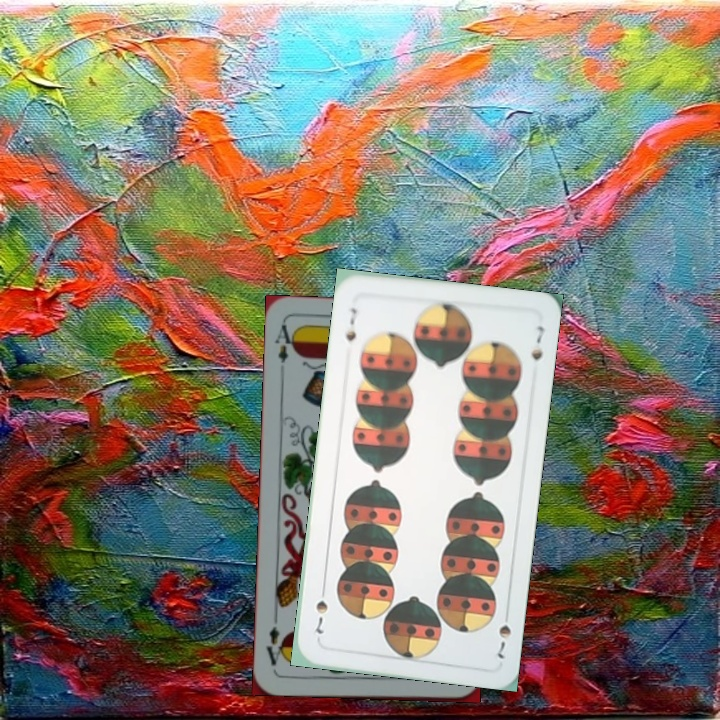EA: (271, 320, 298, 365)
S7: (493, 620, 514, 662), (341, 303, 360, 344)
